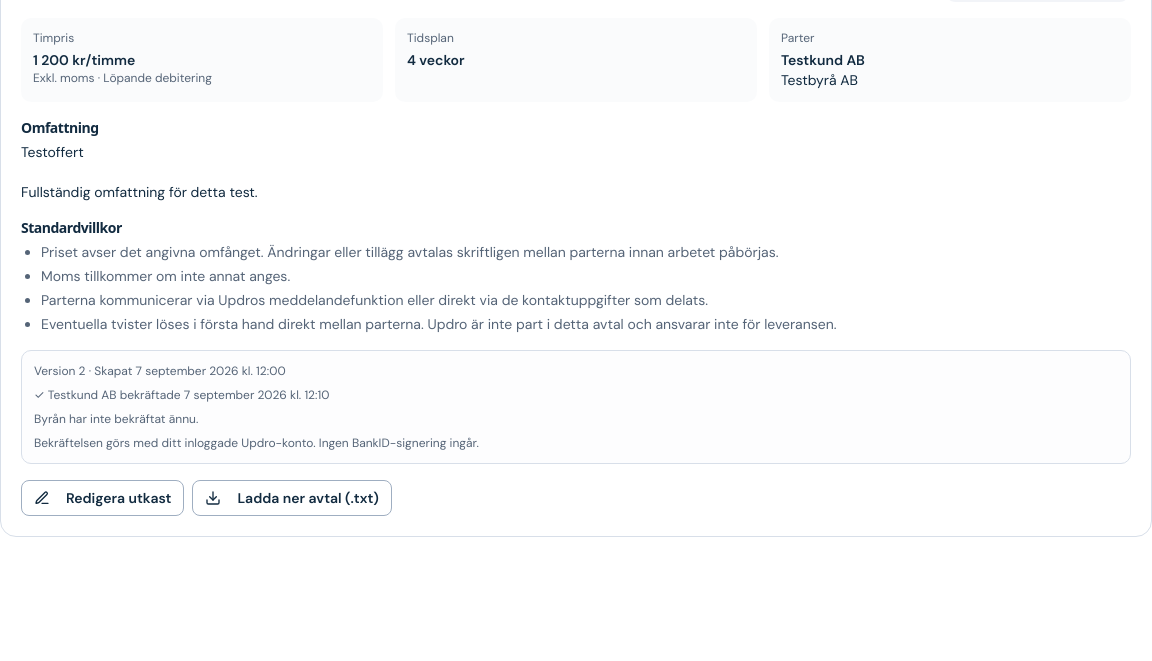
AgreementPanel › keeps an unsaved edit visible when saving fails
Step 1. Click the button "Redigera utkast" → (103, 498), box [21,480,184,516]
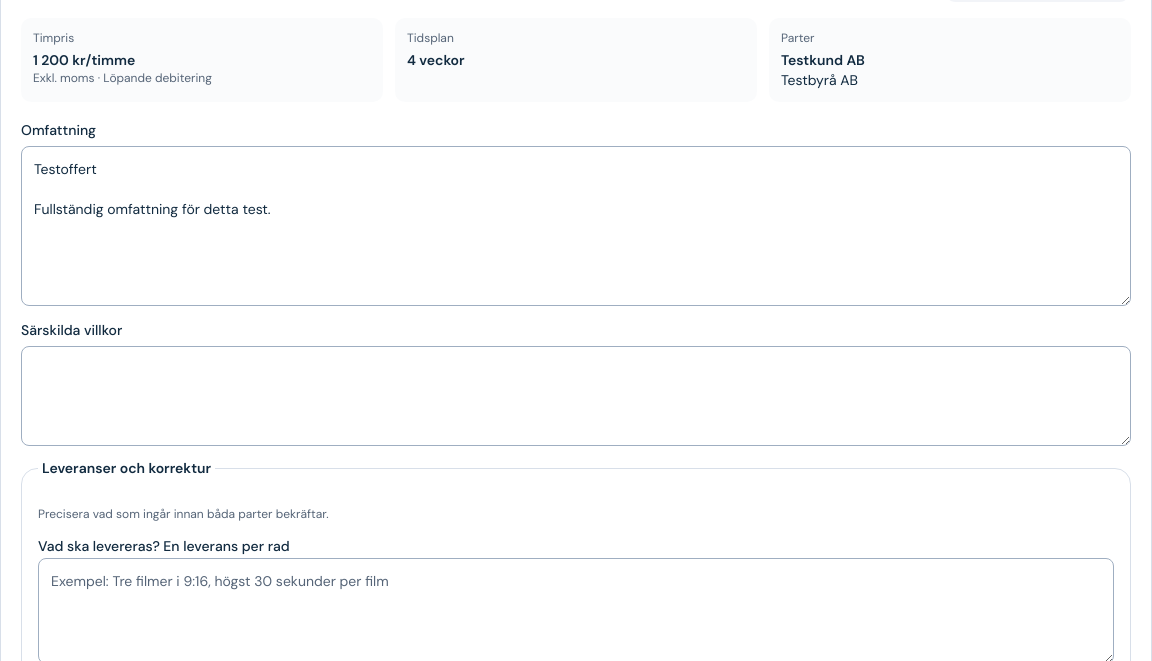
Step 2. Replace the text in the text box labelled "Omfattning" with "Mitt osparade tillägg" → (576, 226), box [21,146,1131,306]
(page scrolled)
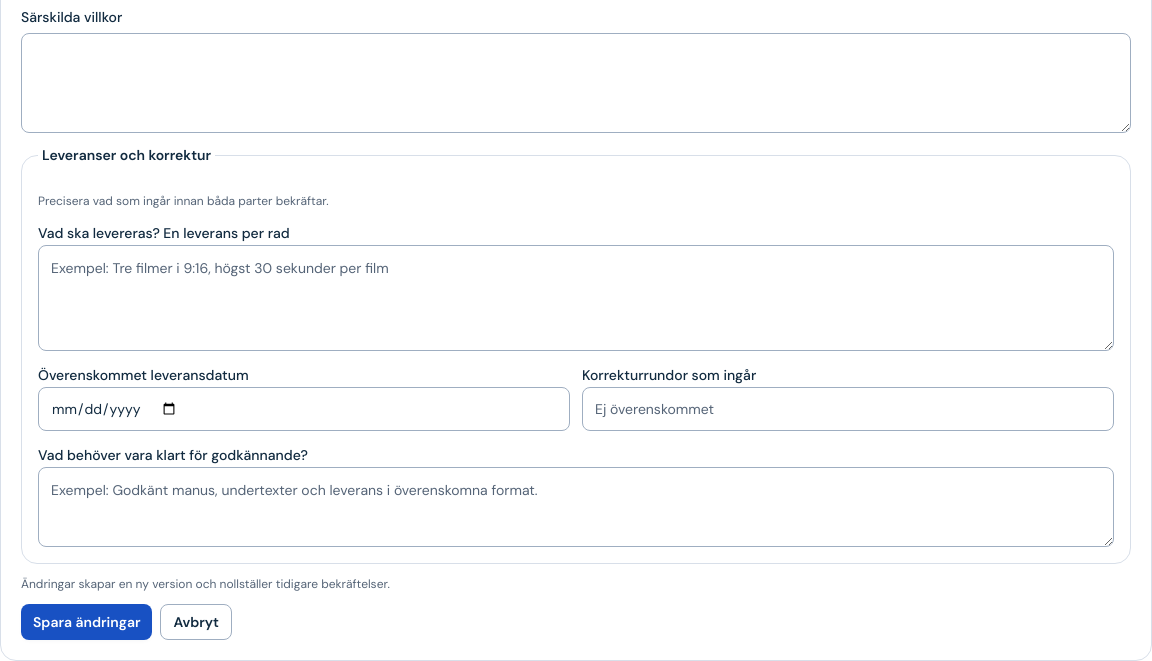
Step 3. Click the button "Spara ändringar" → (87, 622), box [21,604,152,640]
(page scrolled)
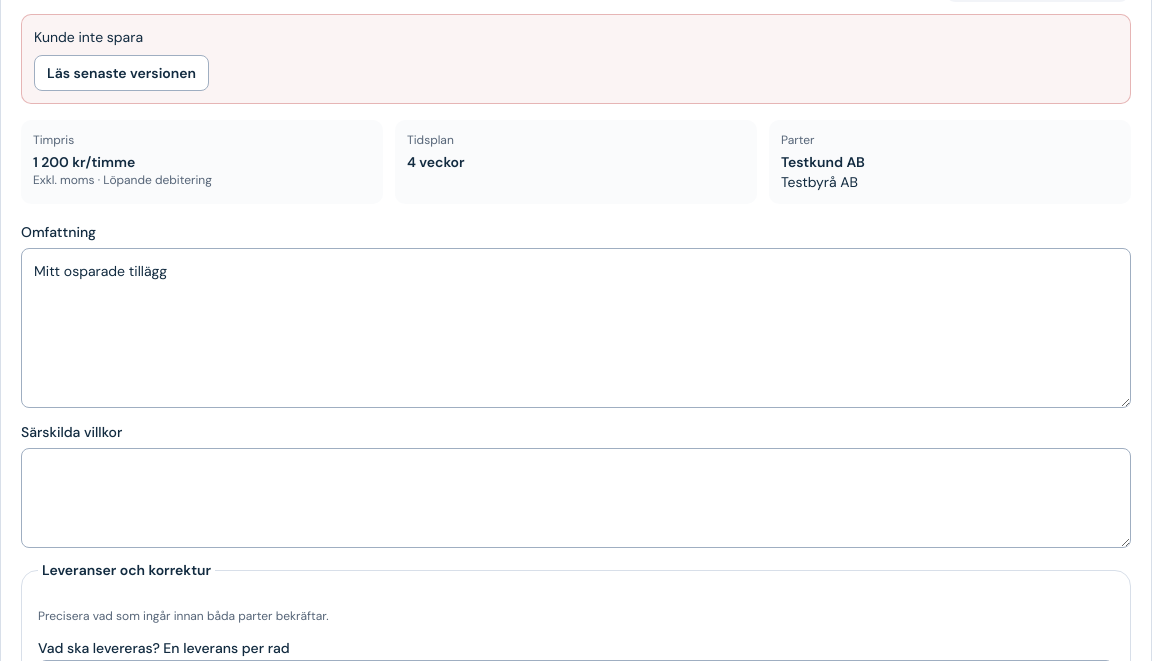
Result: the message "Kunde inte spara Läs senaste versionen" is shown at [21,14,1131,104]
